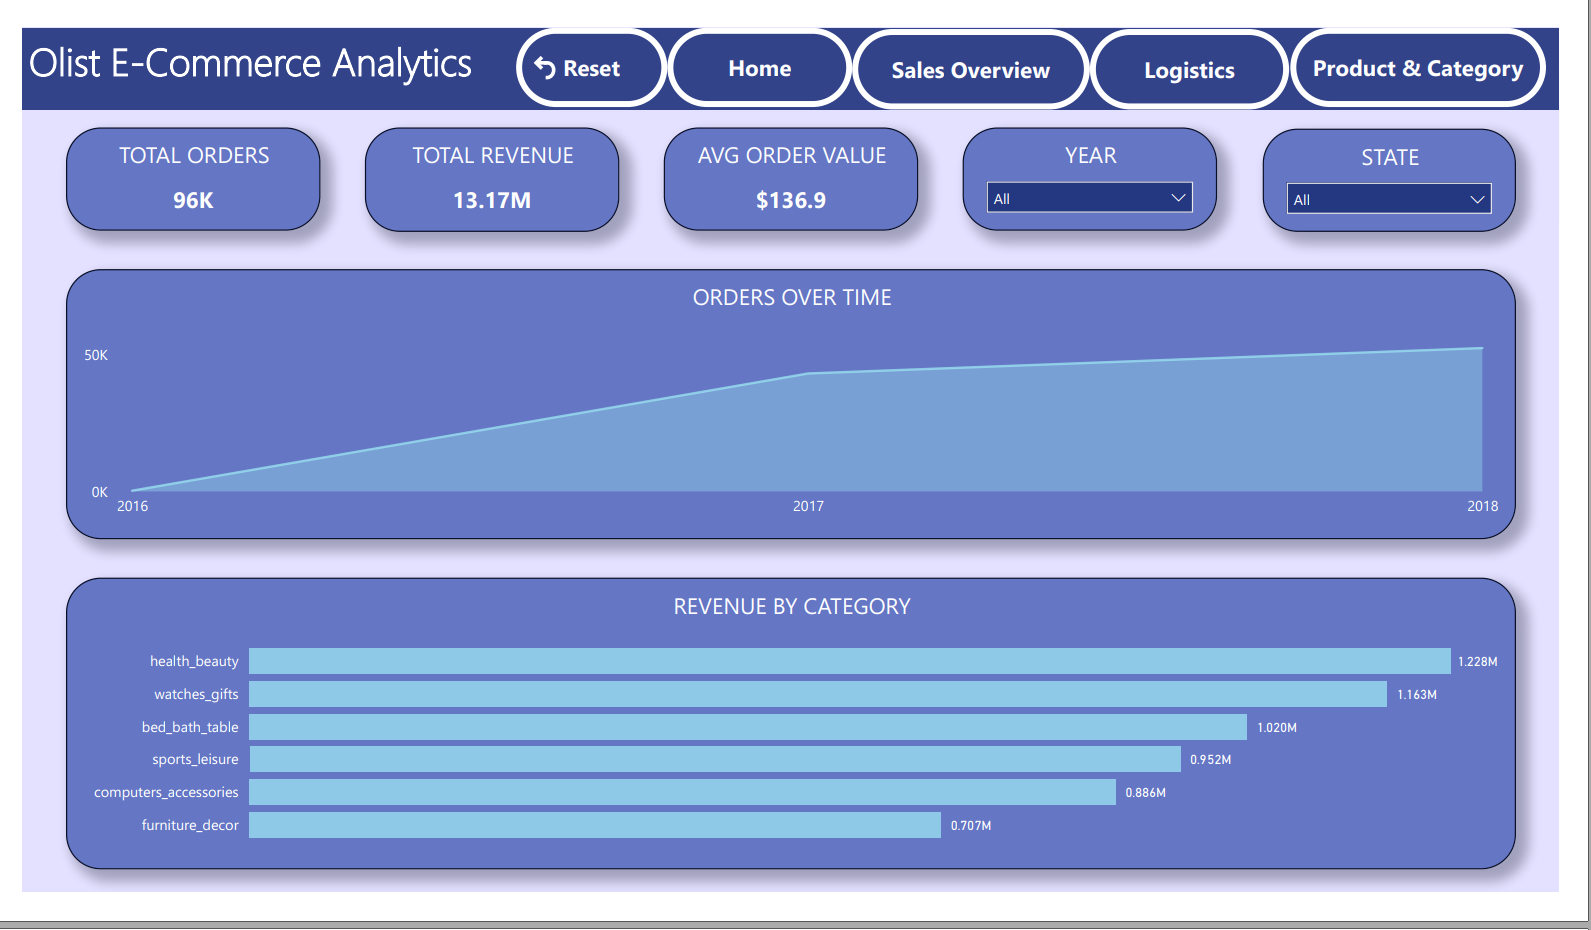

What the dashboard file says about the page in this screenshot:
{"tool":"powerbi","page":{"name":"Sales overview","canvas":[1280,720],"ordinal":1},"visuals":[{"type":"textbox","box":[0,0,1280,67.5],"z":0},{"type":"actionButton","box":[536.7,0,154.4,66.4],"z":1000},{"type":"actionButton","box":[691.1,1.4,197.7,66.4],"z":2000},{"type":"actionButton","box":[888.7,1.4,165.9,66.4],"z":3000},{"type":"actionButton","box":[1056.2,0,212.5,66.2],"z":4000},{"type":"cardVisual","title":"TOTAL ORDERS","fields":{"Data":["olist_final_table.TotalOrders"]},"box":[36.2,82.5,211.2,86.2],"z":5000},{"type":"cardVisual","title":"TOTAL REVENUE","fields":{"Data":["olist_final_table.Total Revenue"]},"box":[285.3,83.4,211.2,86.2],"z":6000},{"type":"cardVisual","title":"AVG ORDER VALUE","fields":{"Data":["olist_final_table.Avg order value"]},"box":[534.4,83.1,211.2,86.2],"z":7000},{"type":"areaChart","title":"ORDERS OVER TIME","fields":{"Category":["olist_final_table.order_purchase_timestamp.Variation.Date Hierarchy.Year","olist_final_table.order_purchase_timestamp.Variation.Date Hierarchy.Quarter","olist_final_table.order_purchase_timestamp.Variation.Date Hierarchy.Month","olist_final_table.order_purchase_timestamp.Variation.Date Hierarchy.Day"],"Y":["olist_final_table.TotalOrders"]},"box":[36.2,201.2,1207.5,225],"z":8000},{"type":"clusteredBarChart","title":"REVENUE BY CATEGORY","fields":{"Category":["olist_final_table.category_name_en"],"Y":["olist_final_table.Total Revenue"]},"box":[36.2,457.5,1207.5,243.8],"z":9000},{"type":"slicer","title":"YEAR","fields":{"Values":["olist_final_table.order_purchase_timestamp.Variation.Date Hierarchy.Year"]},"box":[783.4,82.8,211.2,86.2],"z":10000},{"type":"slicer","title":"STATE","fields":{"Values":["olist_final_table.customer_state"]},"box":[1032.5,83.8,211.2,86.2],"z":11000},{"type":"actionButton","box":[411.2,0,125.5,66.4],"z":14000}]}

Visuals, with their boxes on the page's 1280x720 design canvas (x1, y1, x2, y2). These are canvas units, not pixel positions in the 1591x930 screenshot, which may show the page scaled, cropped or inside an application window:
textbox: detection(0, 0, 1280, 68)
actionButton: detection(537, 0, 691, 66)
actionButton: detection(691, 1, 889, 68)
actionButton: detection(889, 1, 1055, 68)
actionButton: detection(1056, 0, 1269, 66)
"TOTAL ORDERS" cardVisual: detection(36, 82, 247, 169)
"TOTAL REVENUE" cardVisual: detection(285, 83, 496, 170)
"AVG ORDER VALUE" cardVisual: detection(534, 83, 746, 169)
"ORDERS OVER TIME" areaChart: detection(36, 201, 1244, 426)
"REVENUE BY CATEGORY" clusteredBarChart: detection(36, 458, 1244, 701)
"YEAR" slicer: detection(783, 83, 995, 169)
"STATE" slicer: detection(1032, 84, 1244, 170)
actionButton: detection(411, 0, 537, 66)
